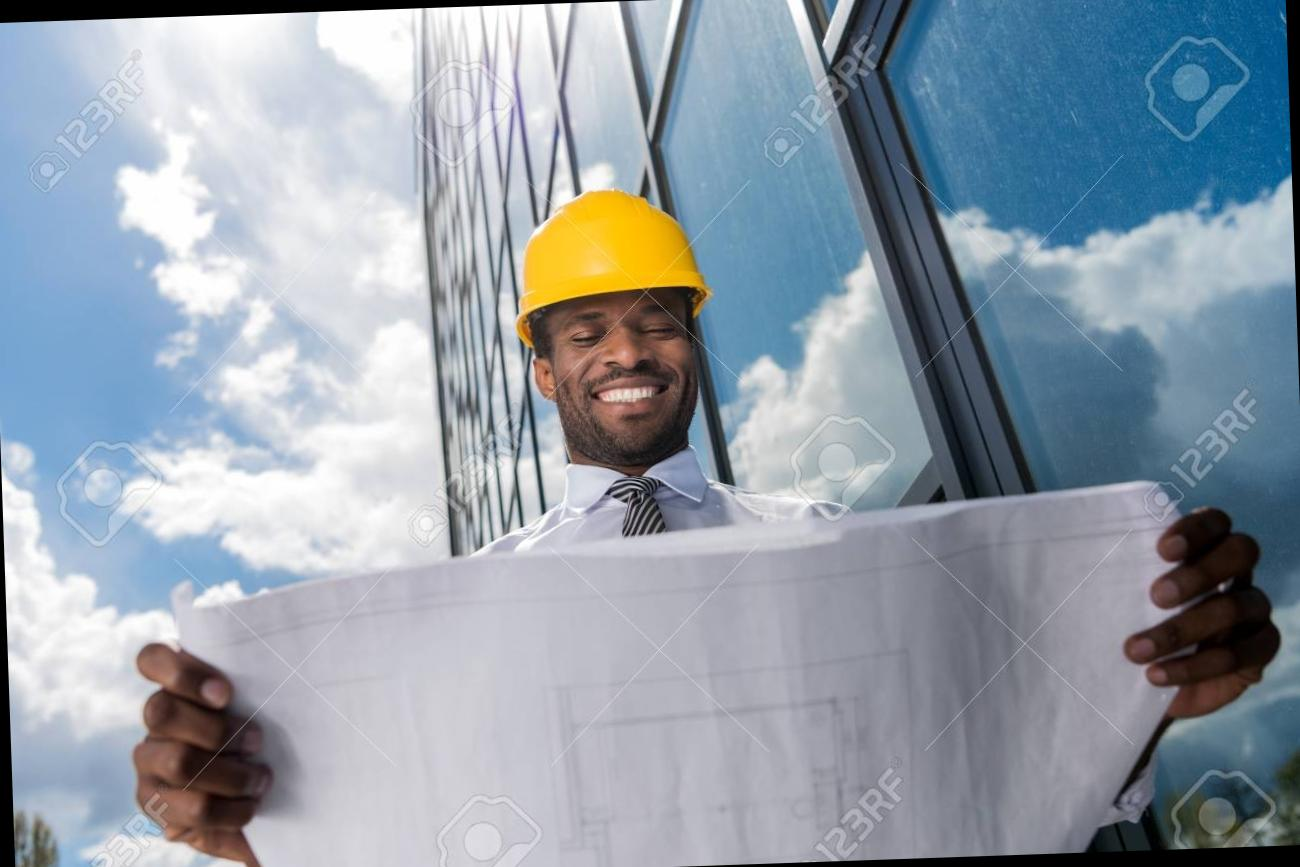helmet: (503, 182, 716, 335)
